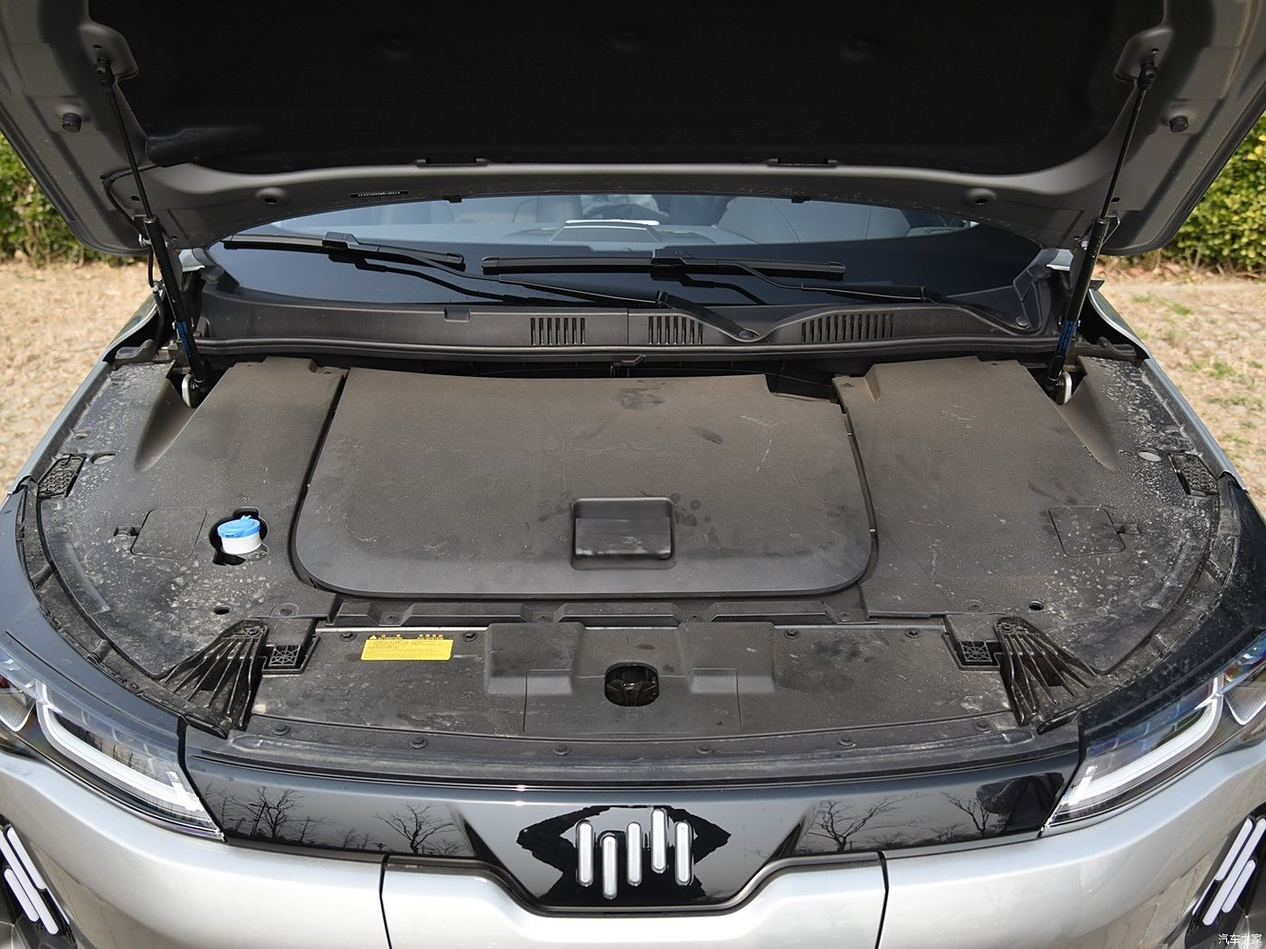WELTMEISTER: (578, 811, 692, 898)
